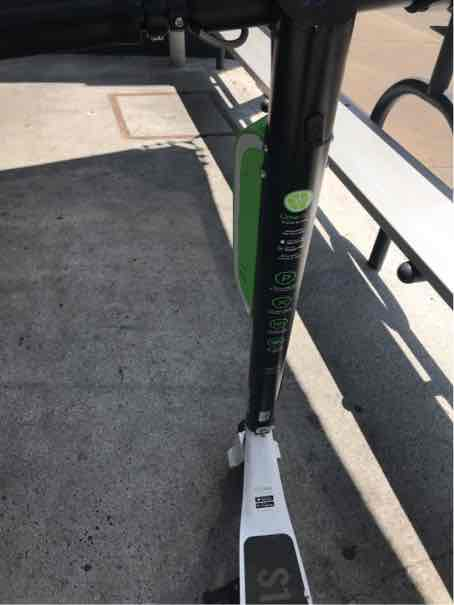scooter: (44, 13, 446, 605)
